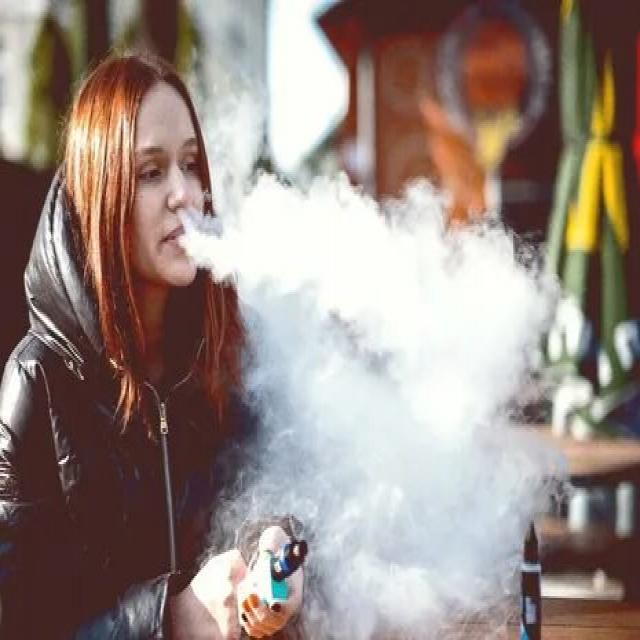cigarette: (230, 528, 312, 628)
